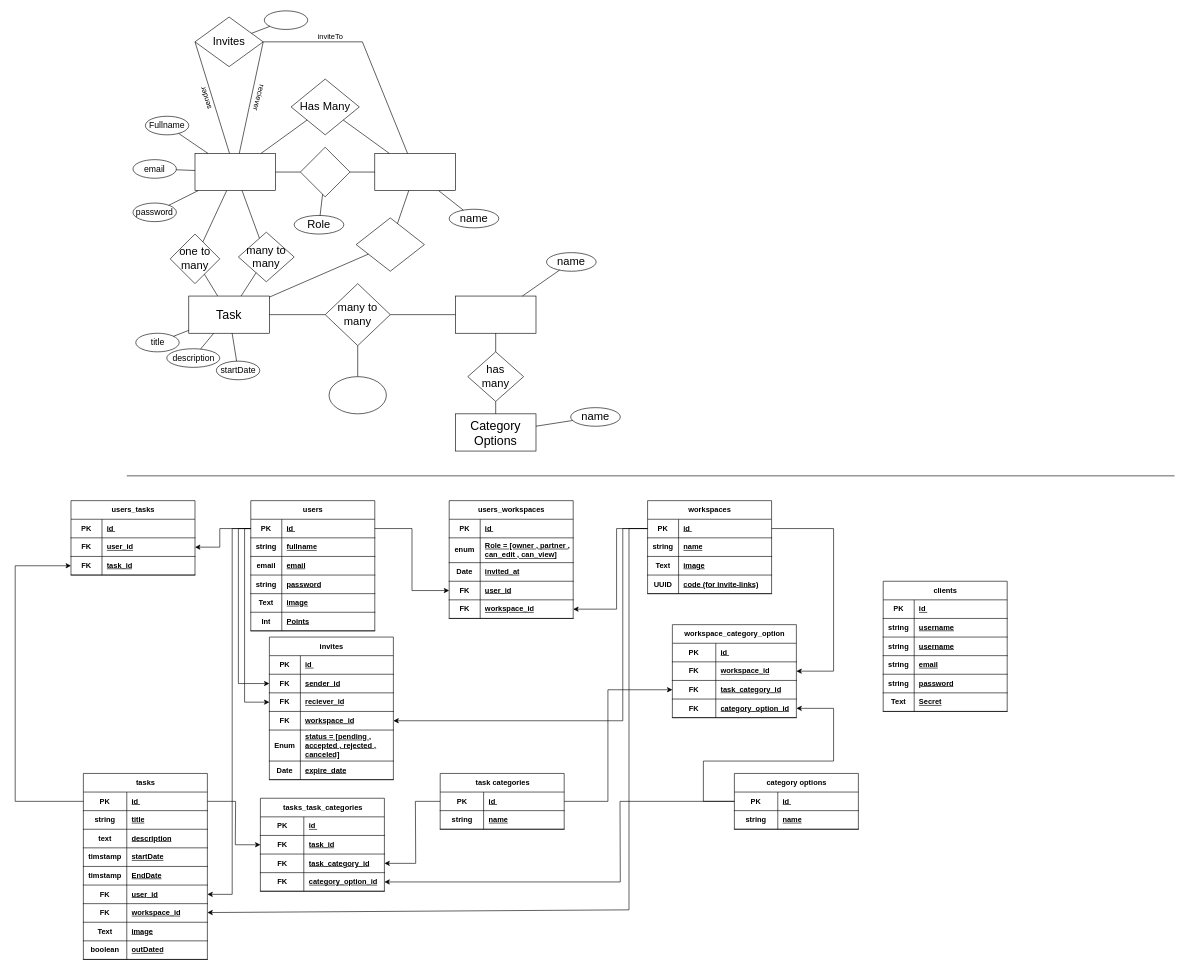
The diagram is 1186 pixels wide and 970 high, and some of its shapes have lost their labels. Here are the shapes that lost their labels. From the top down, the centre of each, then its label:
the point at 286,19: status
the point at 235,172: User
the point at 325,172: In
the point at 414,172: Workspace
the point at 390,244: belongs to
the point at 495,314: Task Category
the point at 357,395: category option (id)
